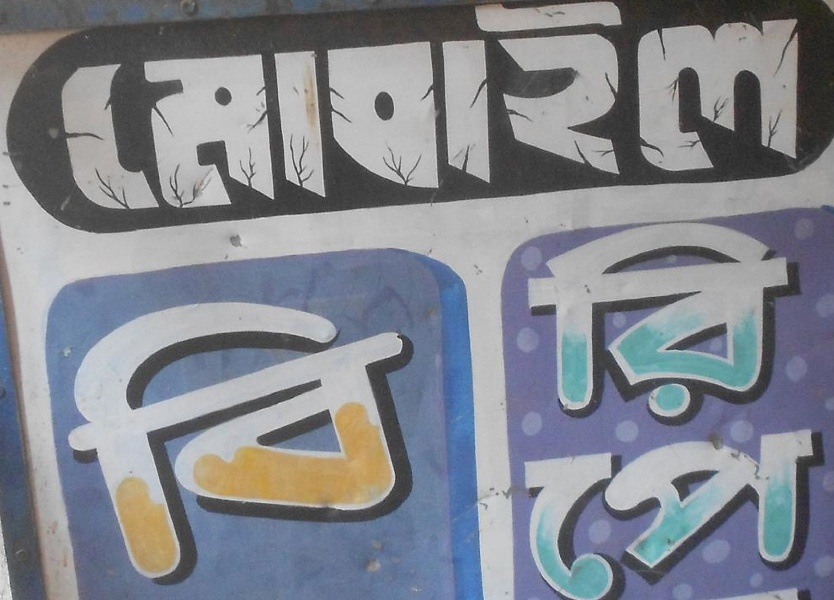text: (81, 304, 96, 582), (97, 304, 112, 582), (113, 304, 128, 582), (129, 304, 144, 582), (145, 304, 160, 582), (161, 304, 176, 582), (177, 304, 192, 582), (193, 304, 208, 582), (209, 304, 224, 582), (225, 304, 240, 582), (241, 304, 256, 582), (257, 304, 272, 582), (273, 304, 288, 582), (289, 304, 304, 582), (305, 304, 320, 582), (321, 304, 336, 582), (337, 304, 352, 582), (353, 304, 368, 582), (369, 304, 384, 582), (385, 304, 400, 582), (401, 304, 416, 582), (68, 304, 80, 582), (49, 3, 64, 215), (65, 3, 80, 215), (81, 3, 96, 215), (97, 3, 112, 215), (113, 3, 128, 215), (129, 3, 144, 215), (145, 3, 160, 215), (161, 3, 176, 215), (177, 3, 192, 215), (193, 3, 208, 215), (209, 3, 224, 215), (225, 3, 240, 215), (241, 3, 256, 215), (257, 3, 272, 215), (273, 3, 288, 215), (289, 3, 304, 215), (305, 3, 320, 215), (321, 3, 336, 215), (337, 3, 352, 215), (353, 3, 368, 215), (369, 3, 384, 215), (385, 3, 400, 215), (401, 3, 416, 215), (417, 3, 432, 215), (433, 3, 448, 215), (449, 3, 464, 215), (465, 3, 480, 215), (481, 3, 496, 215), (497, 3, 512, 215), (513, 3, 528, 215), (529, 3, 544, 215), (545, 3, 560, 215), (561, 3, 576, 215), (577, 3, 592, 215), (593, 3, 608, 215), (609, 3, 624, 215), (625, 3, 640, 215), (641, 3, 656, 215), (657, 3, 672, 215), (673, 3, 688, 215), (689, 3, 704, 215), (705, 3, 720, 215), (721, 3, 736, 215), (737, 3, 752, 215), (753, 3, 768, 215), (769, 3, 784, 215), (785, 3, 800, 215), (529, 220, 544, 431), (545, 220, 560, 431), (561, 220, 576, 431), (577, 220, 592, 431), (593, 220, 608, 431), (609, 220, 624, 431), (625, 220, 640, 431), (641, 220, 656, 431), (657, 220, 672, 431), (673, 220, 688, 431), (689, 220, 704, 431), (705, 220, 720, 431), (721, 220, 736, 431), (737, 220, 752, 431), (753, 220, 768, 431), (769, 220, 784, 431), (785, 220, 800, 431), (529, 426, 544, 598), (545, 426, 560, 598), (561, 426, 576, 598), (577, 426, 592, 598), (593, 426, 608, 598), (609, 426, 624, 598), (625, 426, 640, 598), (641, 426, 656, 598), (657, 426, 672, 598), (673, 426, 688, 598), (689, 426, 704, 598), (705, 426, 720, 598), (721, 426, 736, 598), (737, 426, 752, 598), (753, 426, 768, 598), (769, 426, 784, 598), (785, 426, 800, 598), (801, 426, 816, 598), (801, 220, 813, 431), (817, 426, 830, 598), (801, 3, 810, 215), (523, 220, 528, 431), (525, 426, 528, 598), (417, 304, 418, 582)
